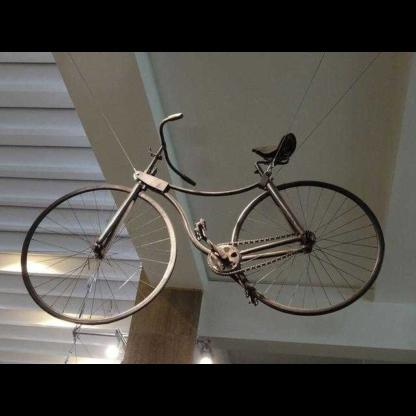Bicycle: (17, 103, 404, 349)
